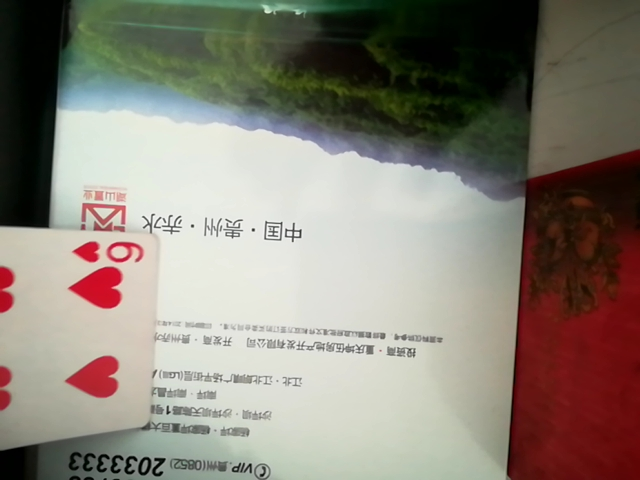hx 6: (3, 217, 152, 451)
